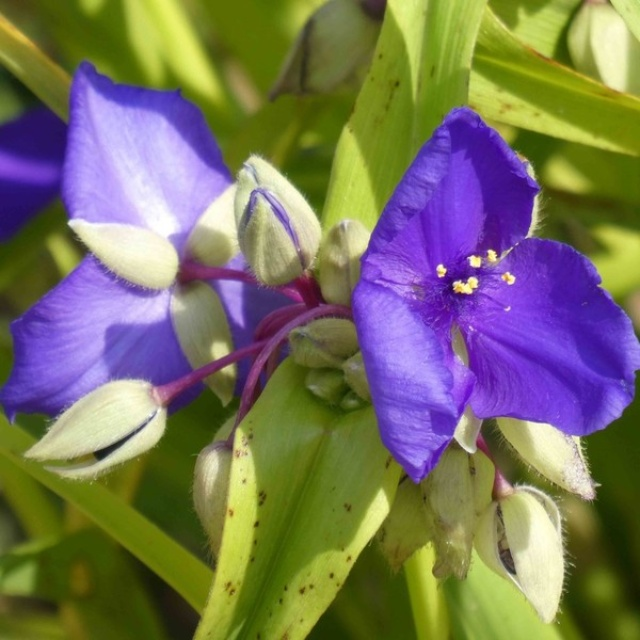obstacle: (46, 53, 595, 607)
